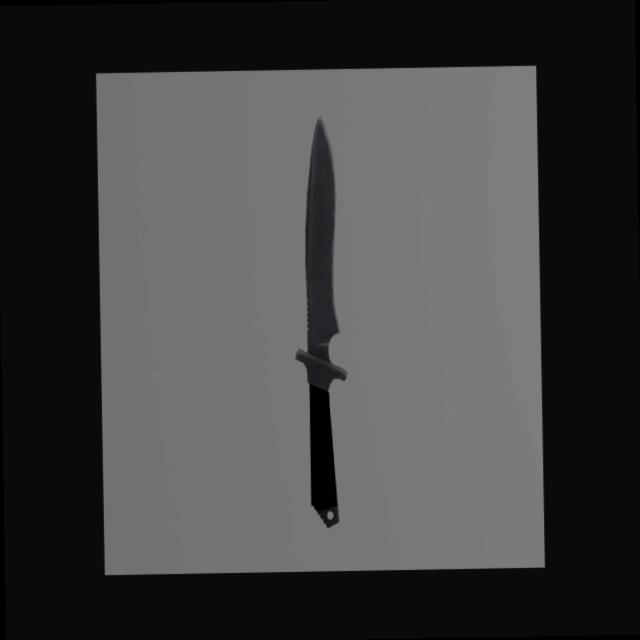knife: (308, 383, 339, 528)
